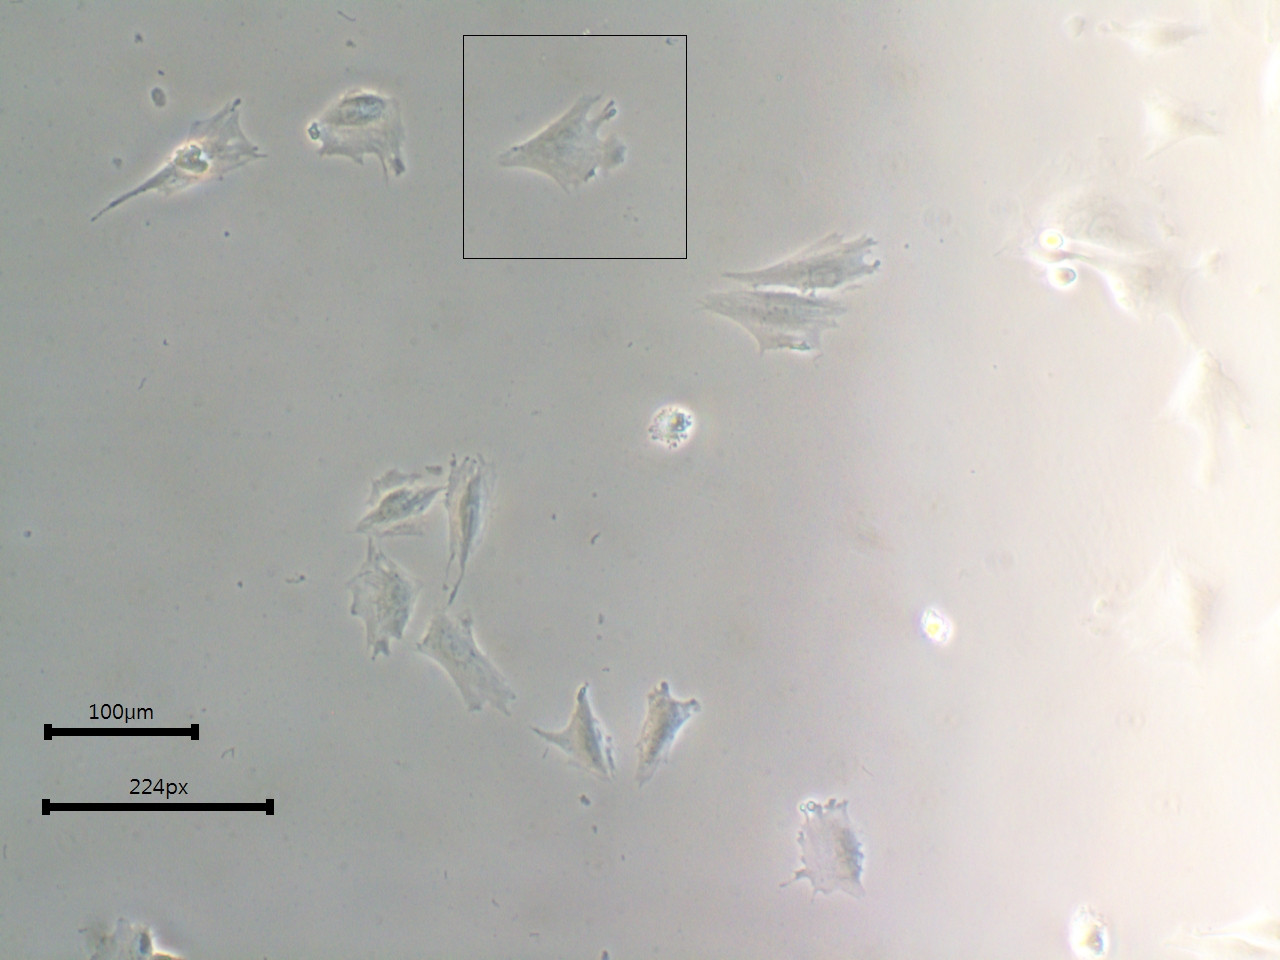dividing: (302, 83, 415, 211), (782, 783, 886, 909)
medium-polygonal: (498, 89, 641, 208), (441, 455, 504, 600)
medium-spread: (100, 90, 276, 226), (687, 290, 876, 379), (336, 545, 431, 652), (724, 230, 888, 290)
small-polygonal: (536, 685, 614, 798), (342, 468, 441, 541)
small-spread: (628, 682, 710, 787)
